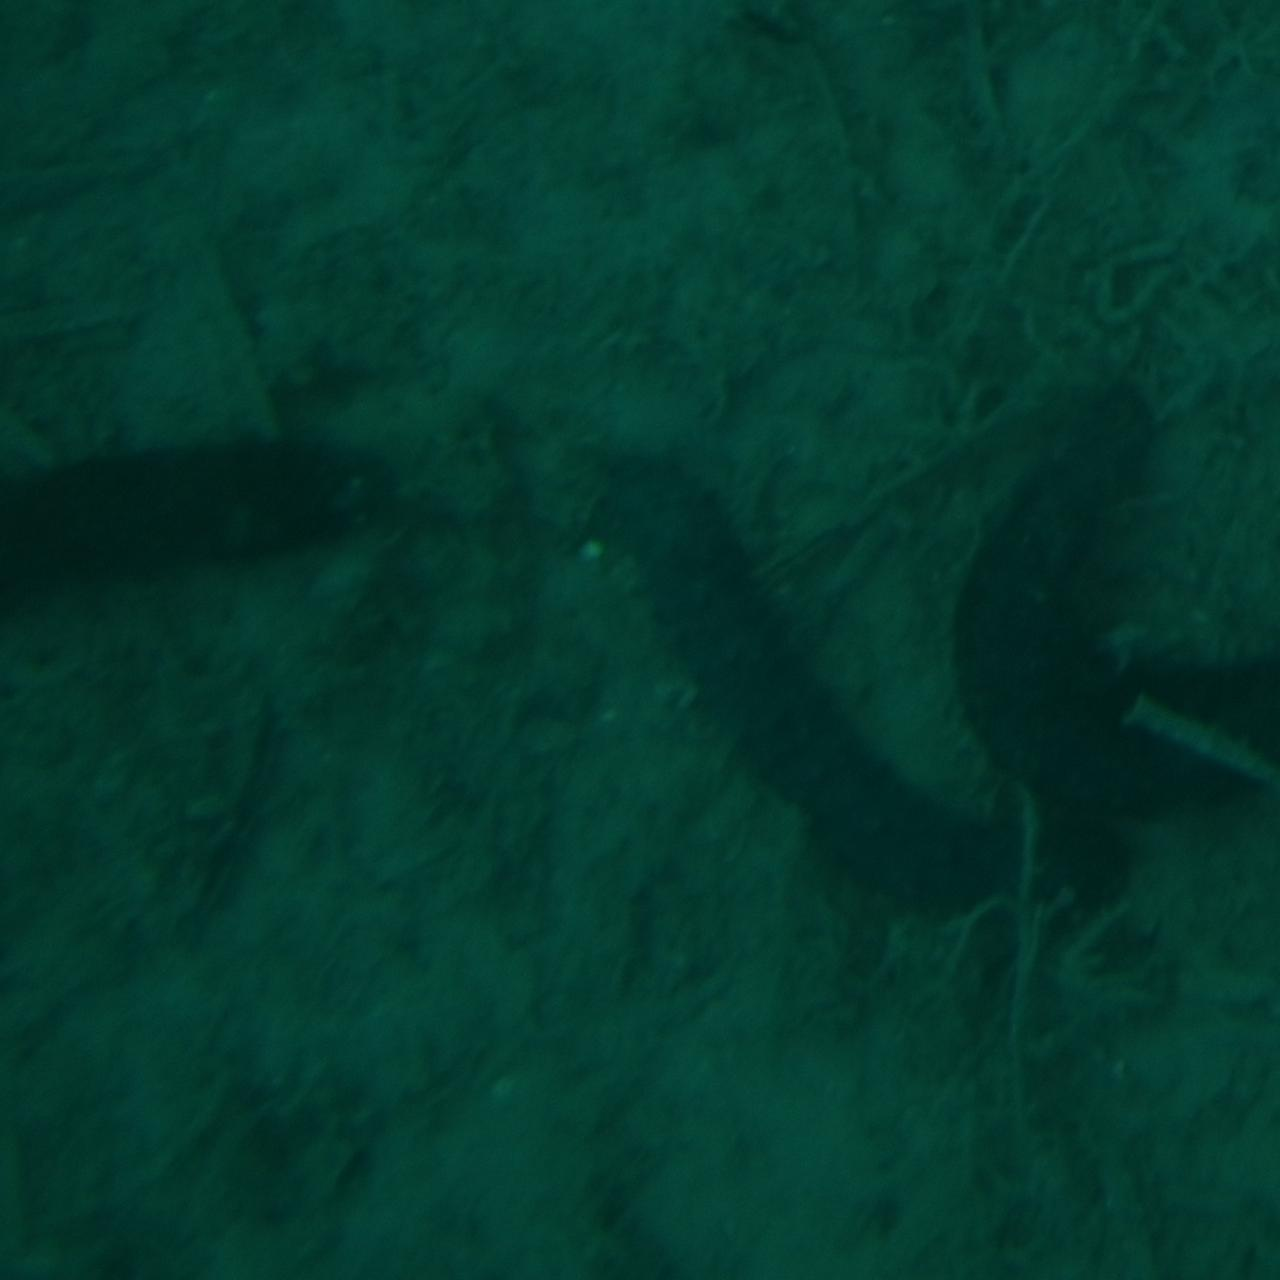Holothuria tubulosa: (573, 451, 1089, 908), (0, 440, 409, 844), (959, 400, 1280, 802)
